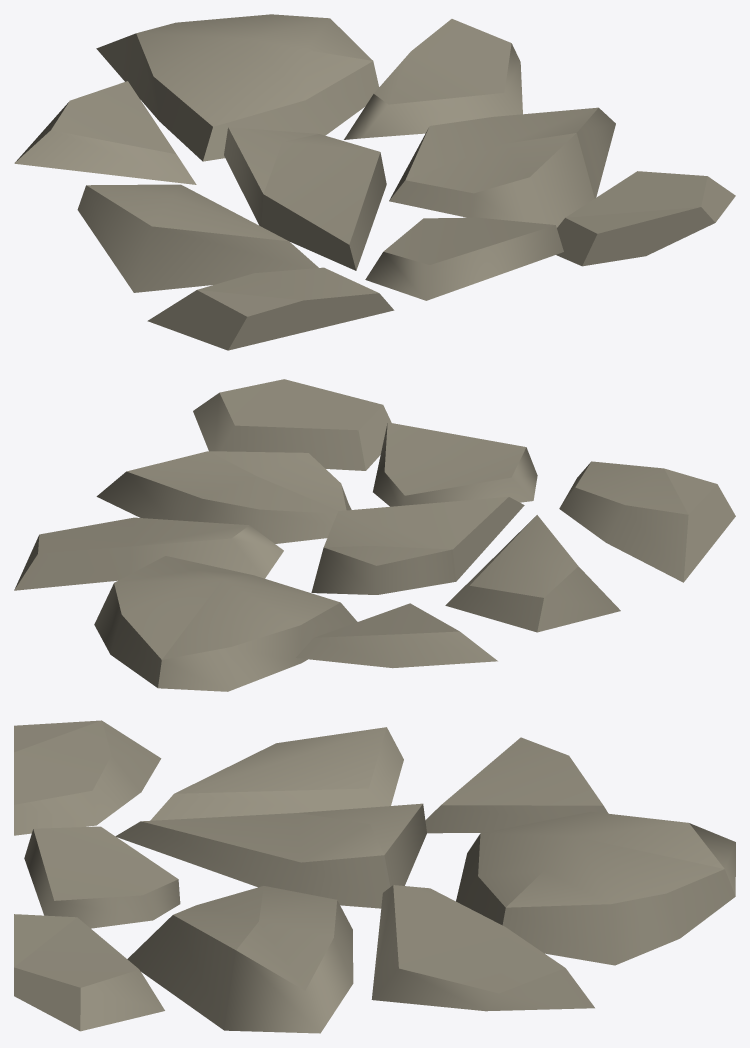
Rendered from Stone_Path_Ending_U.glb.
3 renders of one model, top to bottom at view 1: azimuth 30°, elevation 25°; view 2: azimuth 150°, elevation 25°; view 3: azimuth 270°, elevation 25°, orthographic. The views are drawn at different scales.
Visible parts, largest first — view 1: Stone_Path_Ending_U; view 2: Stone_Path_Ending_U; view 3: Stone_Path_Ending_U.
Boxes of the visible parts, x1=… form: Stone_Path_Ending_U: x1=14, y1=14, x2=735, y2=350; Stone_Path_Ending_U: x1=14, y1=379, x2=735, y2=691; Stone_Path_Ending_U: x1=14, y1=720, x2=735, y2=1033.
Bounding box in the file's own units: 0.9779 × 0.1501 × 1.02.
